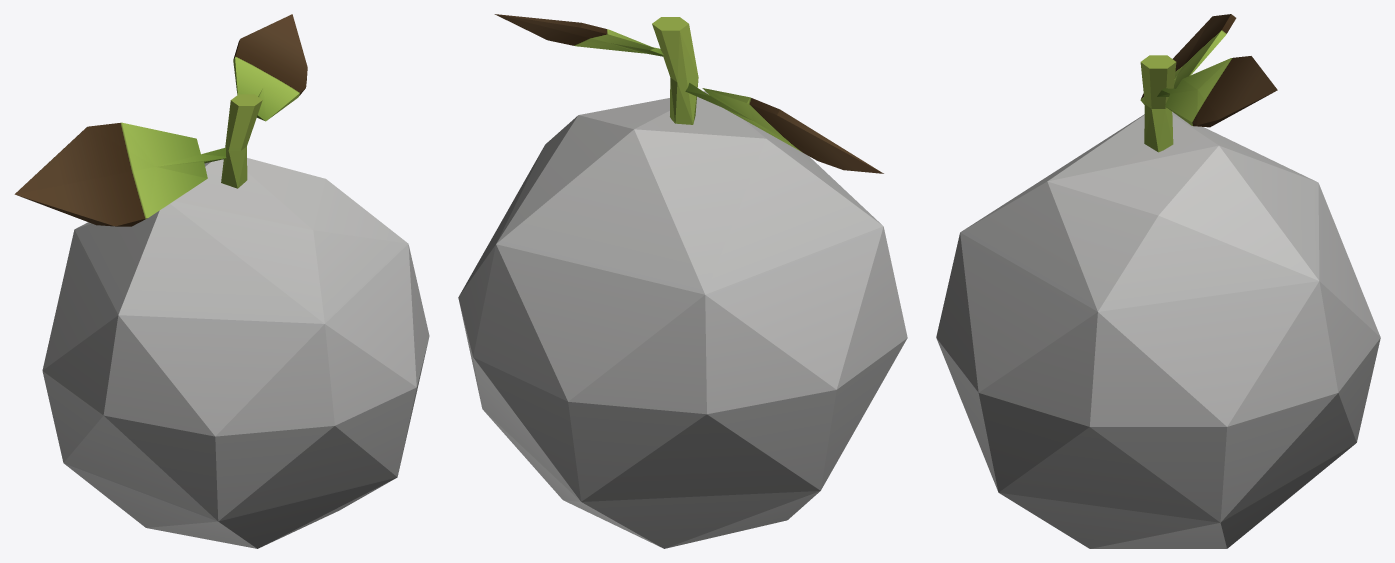
File: Orange_01.fbx
3 renders of one model, left to right at view 1: azimuth 30°, elevation 25°; view 2: azimuth 150°, elevation 25°; view 3: azimuth 270°, elevation 25°, orthographic. The views are drawn at different scales.
Visible parts, largest first — view 1: Orange_01; view 2: Orange_01; view 3: Orange_01.
Boxes of the visible parts, box(x1,y1,x2,y2) form: Orange_01: box(14, 14, 429, 548); Orange_01: box(458, 14, 907, 548); Orange_01: box(936, 14, 1380, 548).
Bounding box in the file's own units: 0.1694 × 0.1979 × 0.161.
